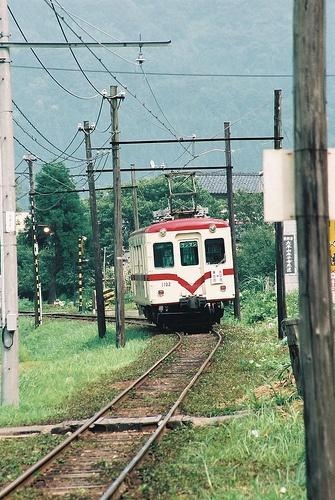train: (129, 218, 238, 334)
